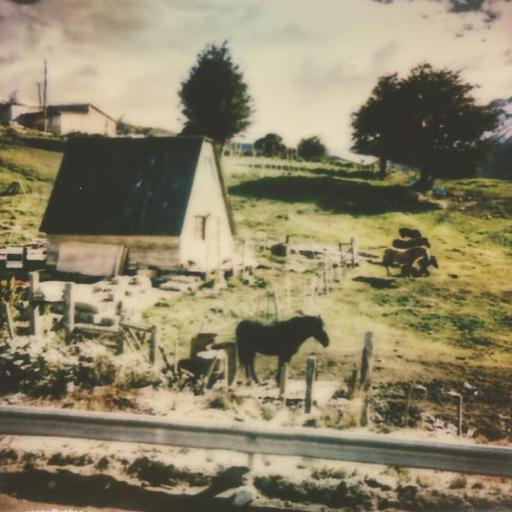horse: (230, 312, 332, 389), (380, 244, 430, 276), (398, 252, 440, 278), (390, 235, 430, 249), (396, 225, 422, 240)
